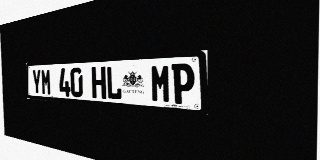0: (70, 67, 83, 98)
4: (59, 68, 71, 97)
H: (92, 66, 106, 99)
L: (106, 66, 122, 100)
M: (151, 64, 171, 103), (41, 69, 51, 95)
P: (172, 63, 195, 105)
Y: (32, 69, 42, 95)
